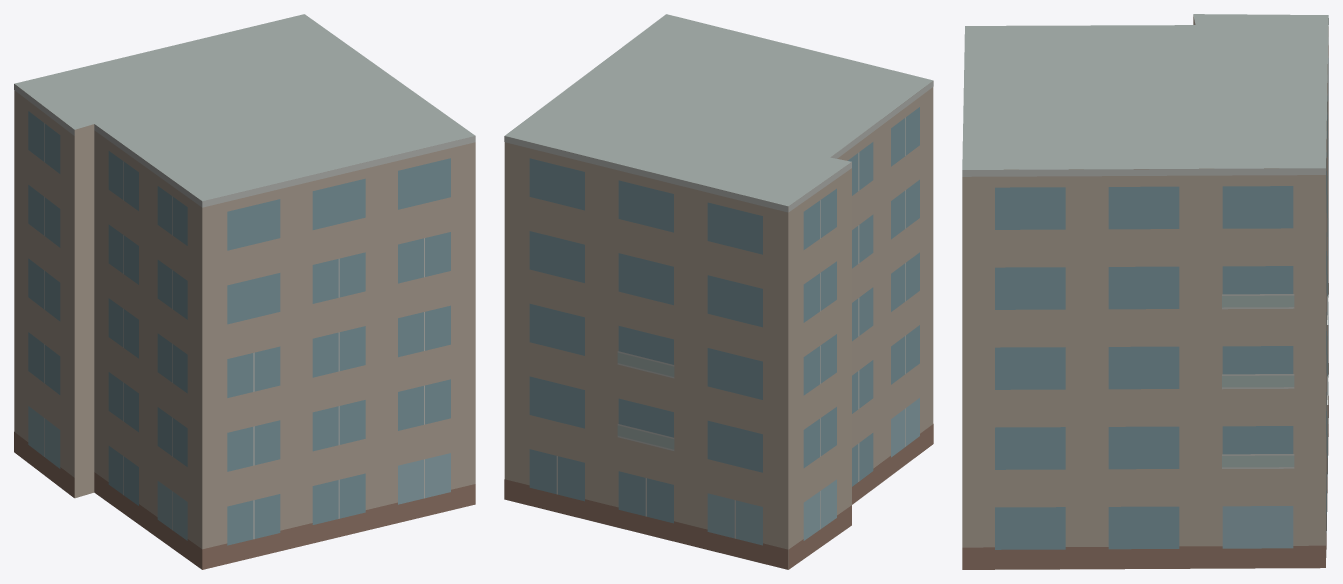
The model's file is survey-upis-33006928.glb.
The picture shows the model from 3 angles, left to right: view 1: azimuth 30°, elevation 25°; view 2: azimuth 150°, elevation 25°; view 3: azimuth 270°, elevation 25°; orthographic projection. The views are drawn at different scales.
Visible parts, largest first — view 1: survey-upis-33006928.tmp; view 2: survey-upis-33006928.tmp; view 3: survey-upis-33006928.tmp.
Boxes of the visible parts, x1,y1,x2,y2 form: survey-upis-33006928.tmp: (14, 14, 475, 569); survey-upis-33006928.tmp: (504, 14, 933, 569); survey-upis-33006928.tmp: (962, 14, 1328, 569).
Size of the model in its own units: 11.89 by 14.2 by 11.8.
